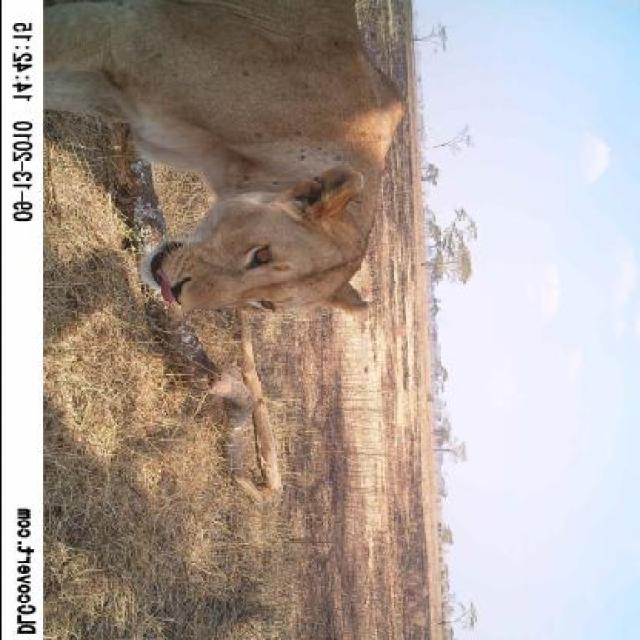Lion: (46, 0, 413, 335)
